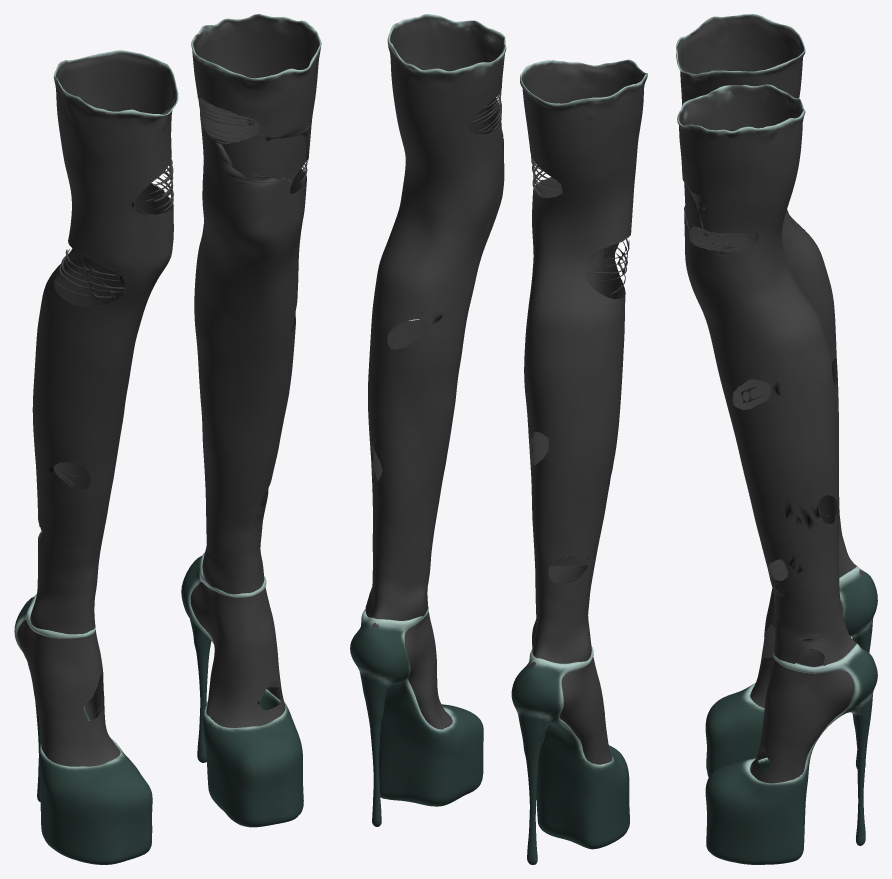
Rendered from greenPreppy-shoes.fbx.
3 renders of one model, left to right at view 1: azimuth 30°, elevation 25°; view 2: azimuth 150°, elevation 25°; view 3: azimuth 270°, elevation 25°, orthographic. The views are drawn at different scales.
Parts seen in each view (by area): view 1: greenPreppy-shoes; view 2: greenPreppy-shoes; view 3: greenPreppy-shoes.
Part boxes in pixels (x1,y1,x2,y2): greenPreppy-shoes: [14, 14, 321, 864]; greenPreppy-shoes: [350, 14, 647, 864]; greenPreppy-shoes: [676, 14, 877, 864].
Size of the model in its own units: 1.86 by 5.5 by 1.36.
